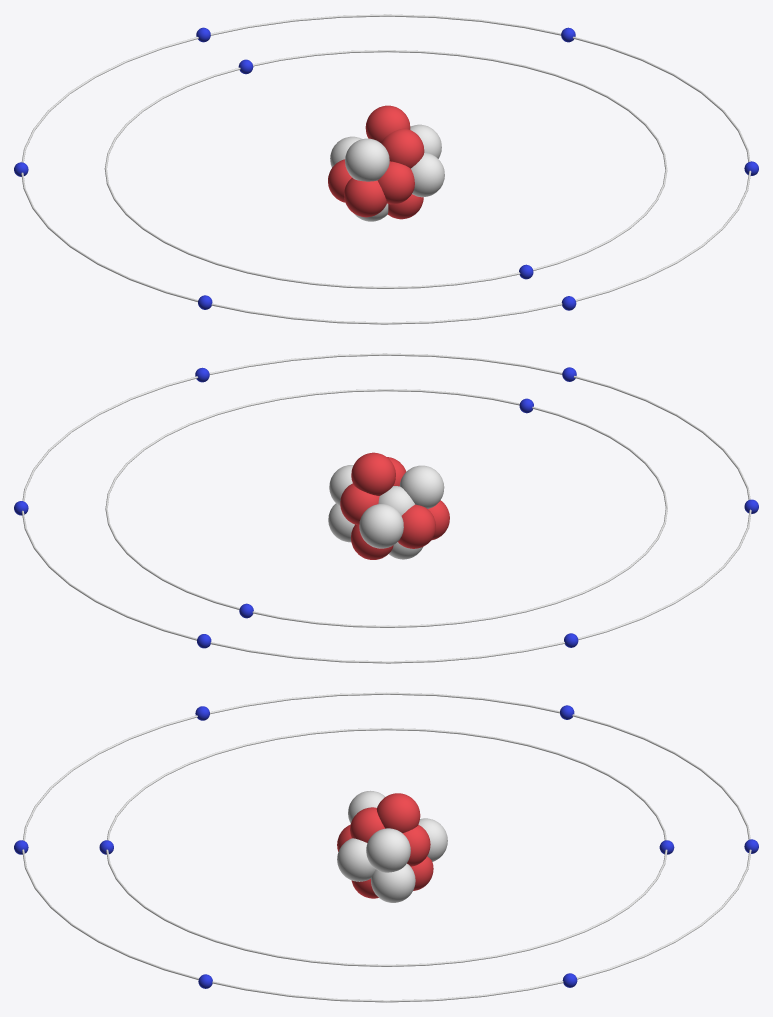
File: Sauerstoff.glb
3 views of the same model, one above another, from view 1: azimuth 30°, elevation 25°; view 2: azimuth 150°, elevation 25°; view 3: azimuth 270°, elevation 25° (orthographic).
Visible parts, largest first — view 1: L-Schale, K-Schale, Neutron 7, Proton 7, Proton 2, Proton 1, Neutron 4, Proton 6, Proton 8, Neutron 6, Proton 3; view 2: L-Schale, K-Schale, Neutron 8, Proton 6, Neutron 7, Proton 8, Proton 5, Proton 4, Neutron 5, Neutron 2, Neutron 6; view 3: L-Schale, K-Schale, Neutron 6, Proton 6, Neutron 5, Neutron 4, Proton 2, Neutron 8, Proton 5, Neutron 7.
Boxes of the visible parts, box(x1,y1,x2,y2) form: L-Schale: box(21, 14, 751, 324); K-Schale: box(104, 50, 667, 288); Neutron 7: box(345, 138, 389, 181); Proton 7: box(344, 177, 386, 217); Proton 2: box(381, 128, 424, 168); Proton 1: box(377, 161, 414, 204); Neutron 4: box(411, 152, 444, 197); Proton 6: box(365, 105, 410, 142); Proton 8: box(328, 159, 351, 202); Neutron 6: box(410, 124, 441, 158); Proton 3: box(388, 194, 423, 219); L-Schale: box(22, 353, 751, 663); K-Schale: box(105, 389, 667, 627); Neutron 8: box(359, 504, 403, 548); Proton 6: box(351, 452, 395, 495); Neutron 7: box(399, 465, 444, 508); Proton 8: box(398, 504, 435, 548); Proton 5: box(340, 483, 379, 524); Proton 4: box(351, 524, 393, 559); Neutron 5: box(328, 503, 354, 542); Neutron 2: box(378, 486, 414, 515); Neutron 6: box(329, 465, 353, 505); L-Schale: box(22, 692, 751, 1002); K-Schale: box(106, 728, 667, 966); Neutron 6: box(366, 828, 410, 872); Proton 6: box(376, 793, 420, 833); Neutron 5: box(371, 863, 415, 902); Neutron 4: box(337, 838, 375, 881); Proton 2: box(350, 807, 384, 842); Neutron 8: box(418, 818, 447, 861); Proton 5: box(403, 825, 430, 866); Neutron 7: box(348, 790, 385, 823).
Bounding box in the file's own units: 13.04 × 2 × 13.3.
